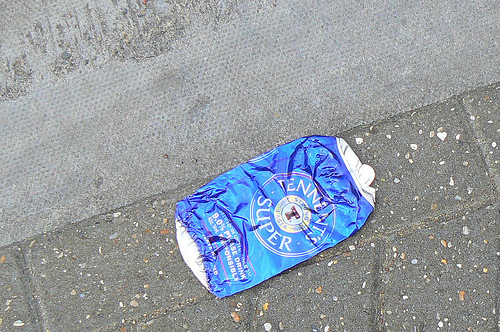litter: (174, 131, 376, 298)
